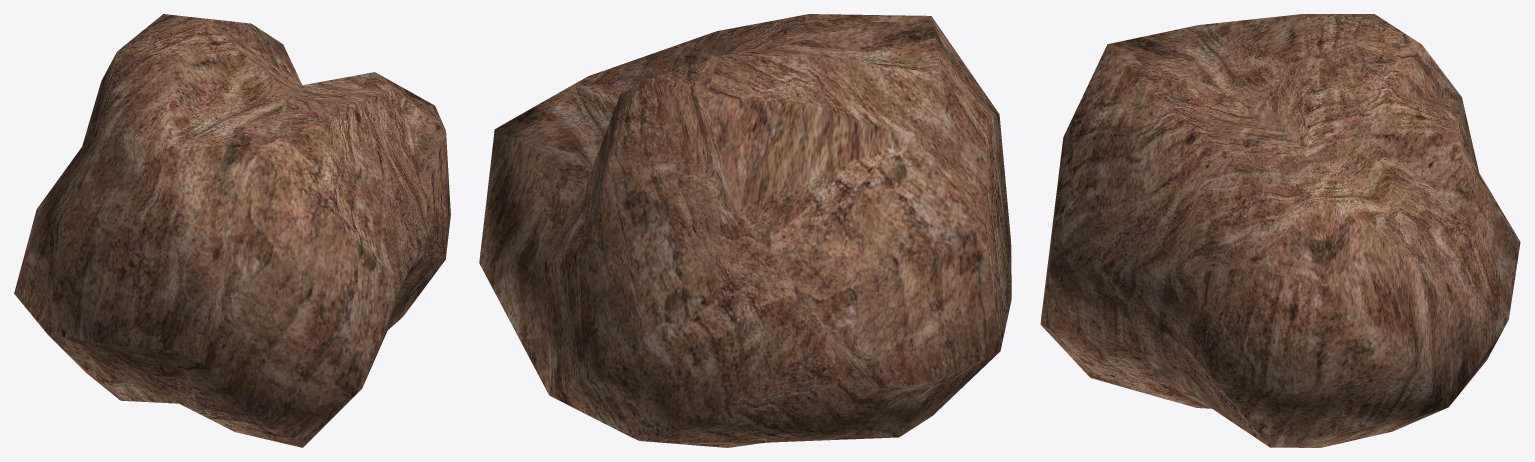
Rendered from rock_dath_desertboulder_l2.fbx.
The picture shows the model from 3 angles, left to right: view 1: azimuth 30°, elevation 25°; view 2: azimuth 150°, elevation 25°; view 3: azimuth 270°, elevation 25°; orthographic projection. The views are drawn at different scales.
Visible parts, largest first — view 1: mesh_node; view 2: mesh_node; view 3: mesh_node.
Part boxes in pixels (bbox=[...]): mesh_node: bbox=[14, 14, 450, 447]; mesh_node: bbox=[479, 14, 1011, 447]; mesh_node: bbox=[1040, 14, 1520, 447].
Bounding box in the file's own units: 1.62 × 1.27 × 1.51.
